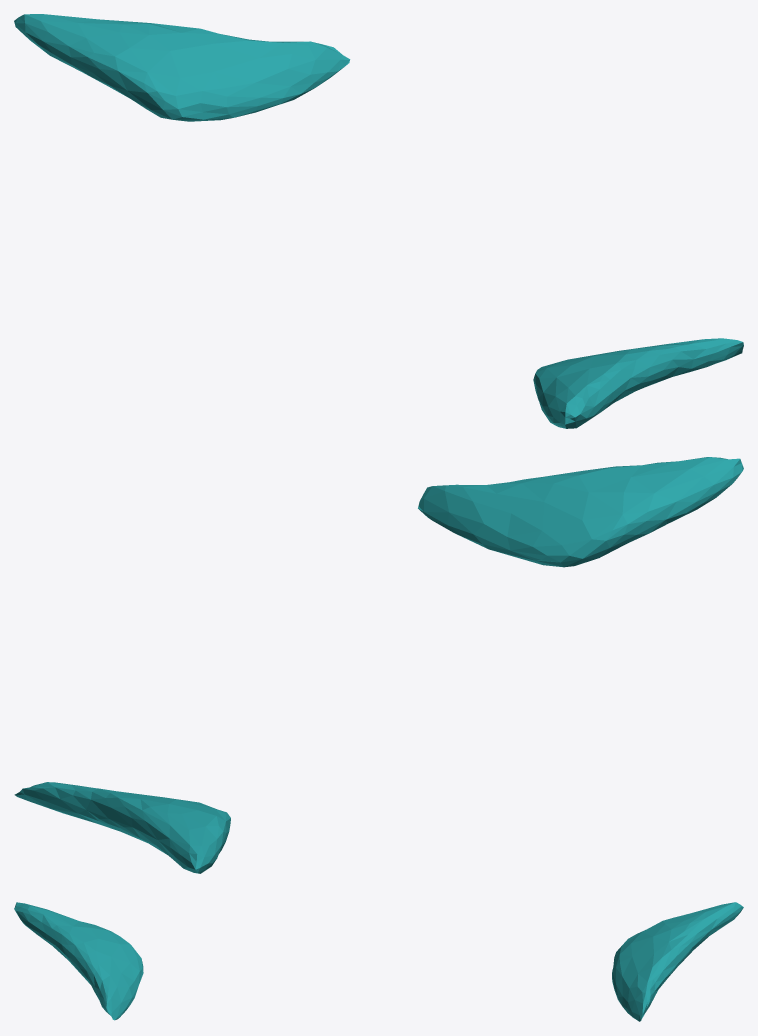
The picture shows the model from 3 angles, top to bottom: view 1: azimuth 30°, elevation 25°; view 2: azimuth 150°, elevation 25°; view 3: azimuth 270°, elevation 25°; orthographic projection. The views are drawn at different scales.
Parts seen in each view (by area): view 1: 257.obj; view 2: 257.obj; view 3: 257.obj.
Boxes of the visible parts, <box> form: 257.obj: <box>14,14,743,428</box>; 257.obj: <box>14,457,743,873</box>; 257.obj: <box>14,902,743,1021</box>.
Size of the model in its own units: 1155 by 309 by 4223.
